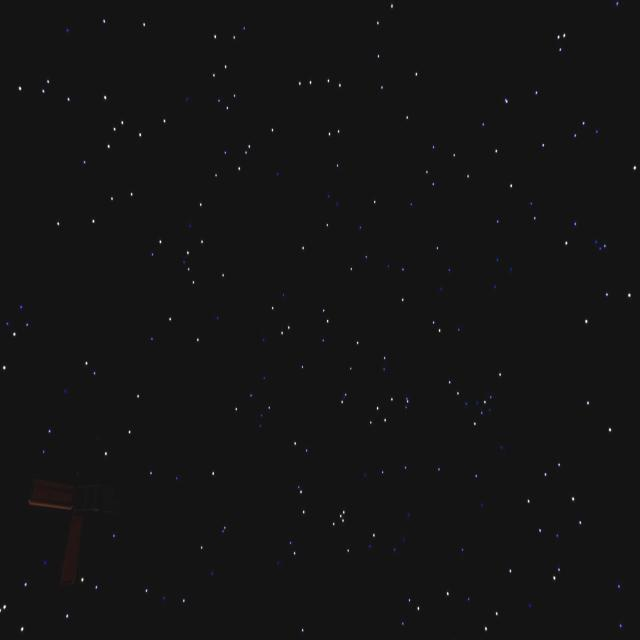medium_debris: (19, 464, 92, 591)
